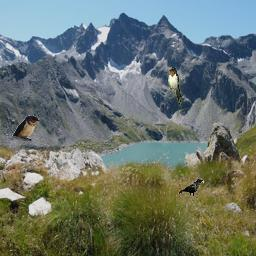Crow: (178, 178, 204, 200)
Swallow: (12, 115, 40, 141), (168, 67, 182, 107)
